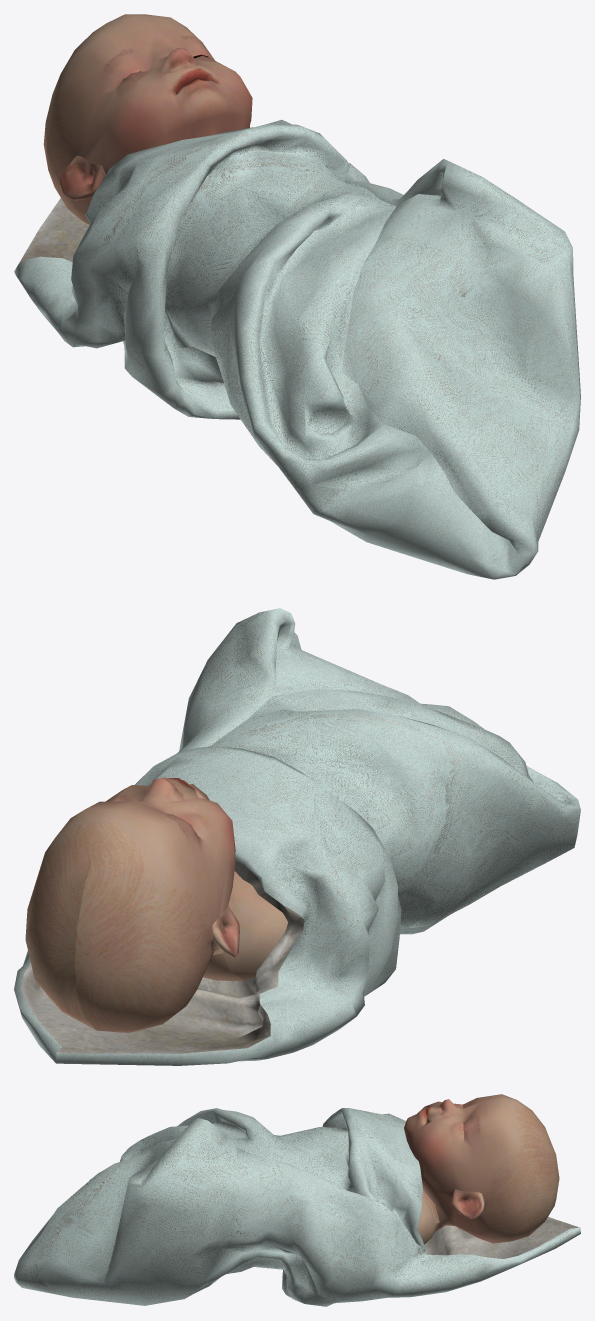
Rendered from baby.fbx.
The picture shows the model from 3 angles, top to bottom: view 1: azimuth 30°, elevation 25°; view 2: azimuth 150°, elevation 25°; view 3: azimuth 270°, elevation 25°; orthographic projection. The views are drawn at different scales.
Parts seen in each view (by area): view 1: G_3DGeom_2, G_3DGeom_1; view 2: G_3DGeom_2, G_3DGeom_1; view 3: G_3DGeom_2, G_3DGeom_1.
Boxes of the visible parts, box(x1,y1,x2,y2) form: G_3DGeom_2: box(14, 119, 580, 579); G_3DGeom_1: box(43, 14, 252, 224); G_3DGeom_2: box(14, 608, 580, 1065); G_3DGeom_1: box(25, 777, 287, 1032); G_3DGeom_2: box(14, 1108, 580, 1306); G_3DGeom_1: box(404, 1094, 559, 1244).
Bounding box in the file's own units: 0.2479 × 0.2287 × 0.5802.
